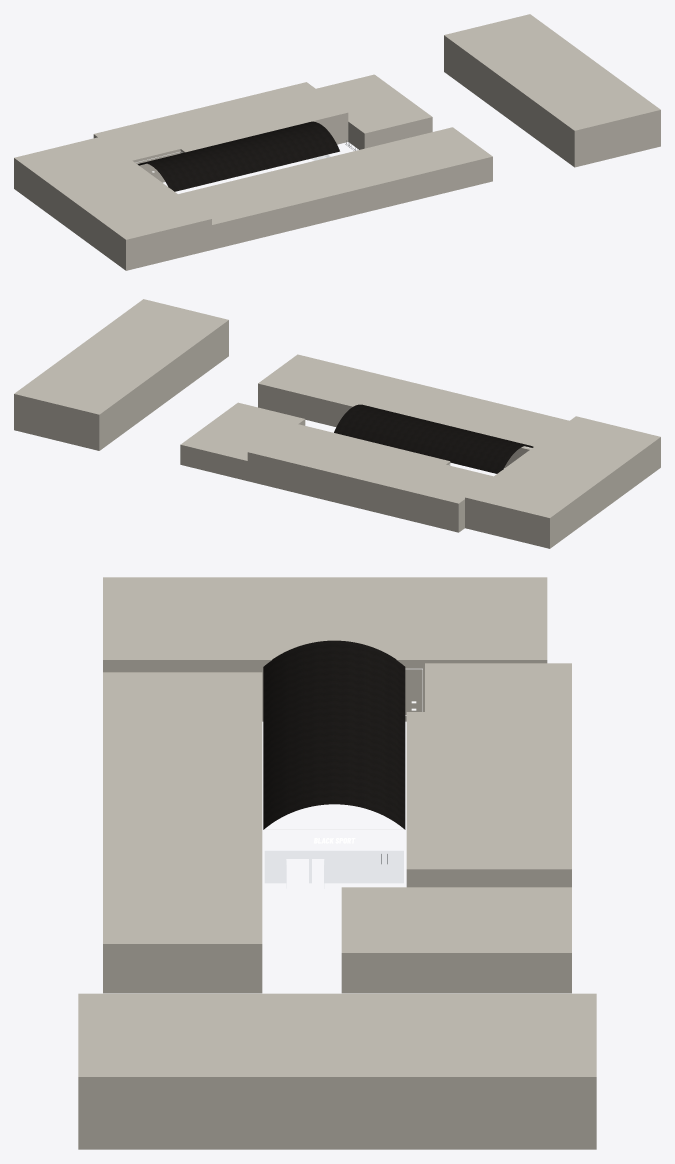
The model's file is escena.glb.
The picture shows the model from 3 angles, top to bottom: view 1: azimuth 30°, elevation 25°; view 2: azimuth 150°, elevation 25°; view 3: azimuth 270°, elevation 25°; orthographic projection. The views are drawn at different scales.
Visible parts, largest first — view 1: ctx|neighbor, ceil|roof; view 2: ctx|neighbor, ceil|roof; view 3: ctx|neighbor, ceil|roof, base|glass.
Boxes of the visible parts, <box> form: ctx|neighbor: <box>14,14,660,270</box>; ceil|roof: <box>138,121,339,191</box>; ctx|neighbor: <box>14,299,660,548</box>; ceil|roof: <box>334,404,533,473</box>; ctx|neighbor: <box>78,577,596,1149</box>; ceil|roof: <box>263,640,405,829</box>; base|glass: <box>265,851,403,882</box>.
Size of what is drawn, in the model's own units: 98 by 7.2 by 42.
15 materials, 5 textured.
